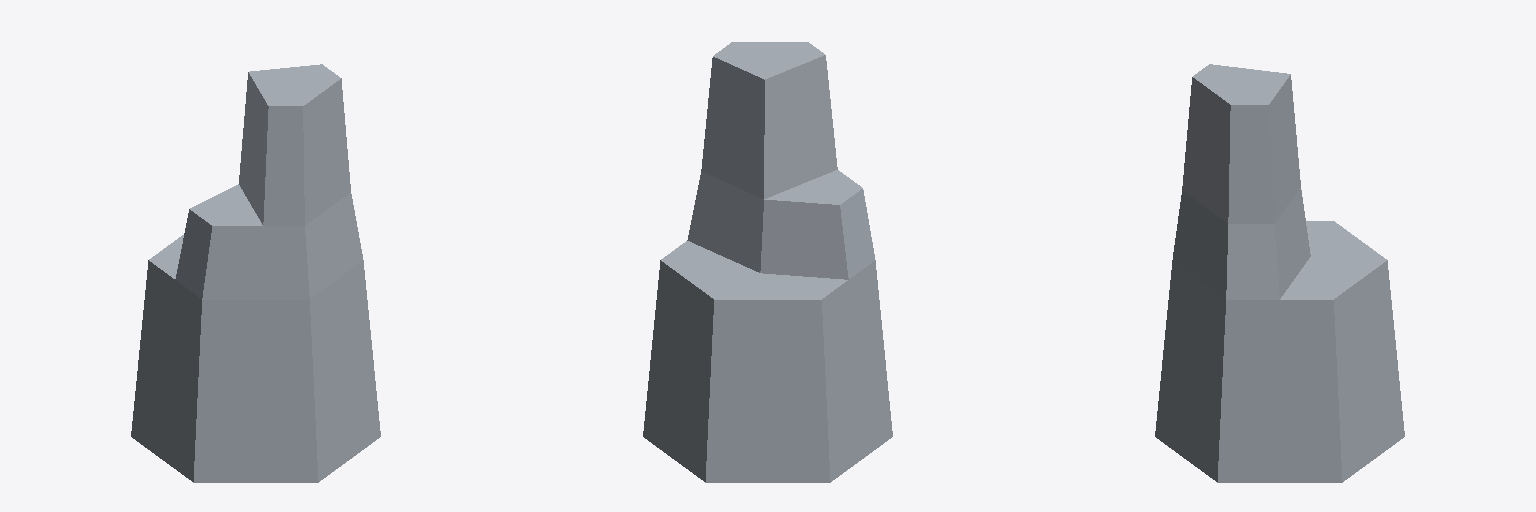
3 renders of one model, left to right at view 1: azimuth 30°, elevation 25°; view 2: azimuth 150°, elevation 25°; view 3: azimuth 270°, elevation 25°, orthographic.
Visible parts, largest first — view 1: Mesh1 Tall_Rock_2 Model; view 2: Mesh1 Tall_Rock_2 Model; view 3: Mesh1 Tall_Rock_2 Model.
Part boxes in pixels (bbox=[...]): Mesh1 Tall_Rock_2 Model: bbox=[131, 64, 380, 482]; Mesh1 Tall_Rock_2 Model: bbox=[643, 42, 892, 482]; Mesh1 Tall_Rock_2 Model: bbox=[1155, 64, 1404, 482].
Size of the model in its own units: 1.18 by 2.17 by 1.36.
Materials: 1 (1 with a texture image).